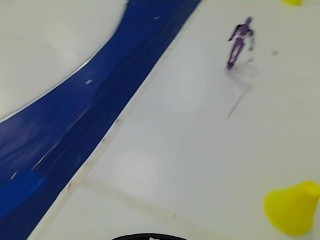cone: (259, 175, 318, 238)
pedestrian: (224, 10, 259, 78)
